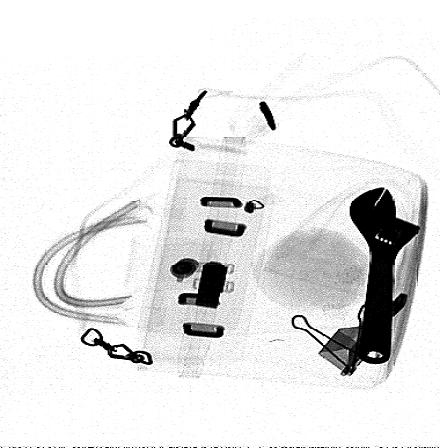Wrench: (347, 185, 422, 366)
